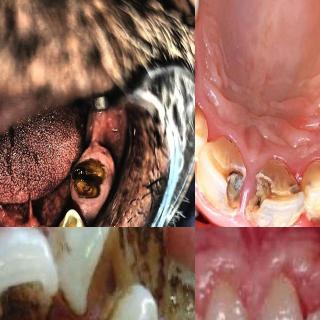Gum Swelling: (195, 253, 320, 320), (212, 194, 258, 227)
cavities: (251, 157, 301, 227), (207, 158, 247, 212)
maligned: (28, 227, 134, 320), (0, 227, 60, 320), (99, 227, 173, 285), (79, 290, 173, 320)
stains: (48, 227, 125, 317), (119, 227, 168, 286), (94, 283, 141, 320), (8, 282, 52, 320), (165, 277, 195, 320)
